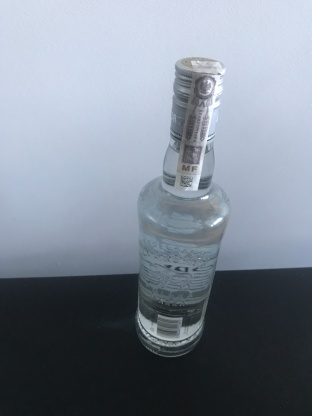nakretka: (168, 51, 227, 145)
